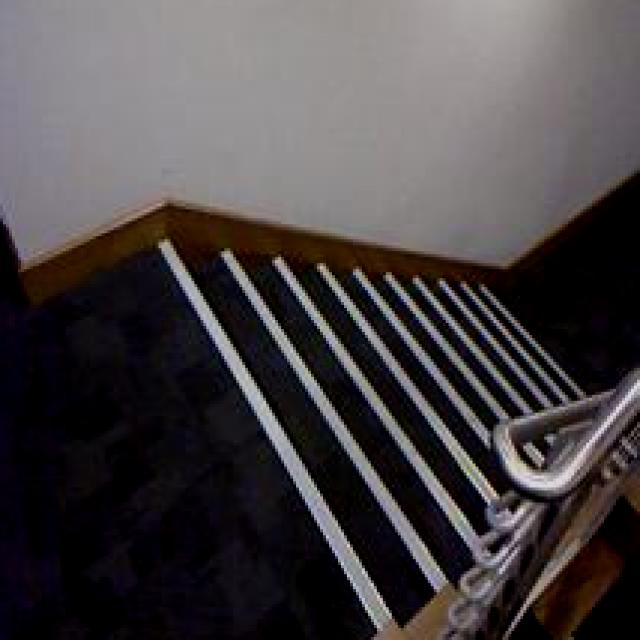downstair: (133, 187, 522, 564)
